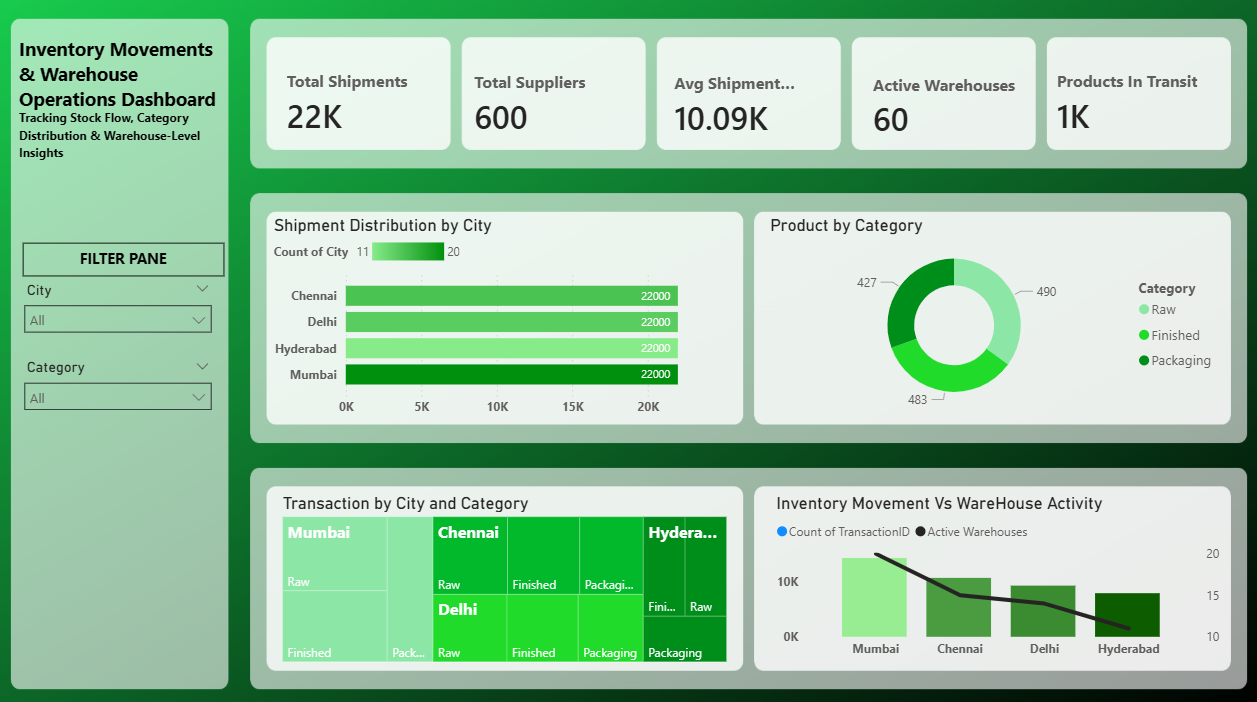

What the dashboard file says about the page in this screenshot:
{"tool":"powerbi","page":{"name":"Page 2","canvas":[1280,720],"ordinal":1},"visuals":[{"type":"cardVisual","fields":{"Data":["Fact_Shipments.Total Shipments"]},"box":[268.7,51.5,209.8,114.1],"z":0},{"type":"cardVisual","fields":{"Data":["Dim_suppliers.Total Suppliers"]},"box":[456.4,52.8,209.8,114.1],"z":1000},{"type":"cardVisual","fields":{"Data":["Fact_Supplyorders.Avg shipment value"]},"box":[656.4,54,209.8,114.1],"z":2000},{"type":"cardVisual","fields":{"Data":["Dim_Warehouses.Active WareHouses"]},"box":[855.2,55.2,209.8,114.1],"z":3000},{"type":"cardVisual","fields":{"Data":["Fact_InventoryTransactions.ProductsINTransit"]},"box":[1039.3,51.5,209.8,114.1],"z":4000},{"type":"clusteredBarChart","title":"Shipment Distribution by City","fields":{"Category":["Dim_Warehouses.City"],"Y":["CountNonNull(Fact_Shipments.ShipmentID)"]},"box":[279.8,220.9,462.6,209.8],"z":5000},{"type":"donutChart","title":"Product by Category","fields":{"Y":["CountNonNull(Dim_SupplyProducts.ProductID)"],"Category":["Dim_SupplyProducts.Category"]},"box":[776.7,220.9,460.1,201.2],"z":6000},{"type":"treemap","title":"Transaction by City and Category","fields":{"Group":["Dim_Warehouses.City"],"Values":["CountNonNull(Fact_InventoryTransactions.TransactionID)"],"Details":["Dim_SupplyProducts.Category"]},"box":[288.3,498.2,454,174.2],"z":7000},{"type":"lineStackedColumnComboChart","title":"Inventory Movement Vs WareHouse Activity","fields":{"Category":["Dim_Warehouses.City"],"Y":["CountNonNull(Fact_InventoryTransactions.TransactionID)"],"Y2":["Dim_Warehouses.Active WareHouses"]},"box":[782.8,498.2,454,174.2],"z":8000},{"type":"textbox","box":[25,37.5,220,92.5],"z":8001},{"type":"textbox","box":[25,108.8,220,92.5],"z":8002},{"type":"slicer","fields":{"Values":["Dim_Warehouses.City"]},"box":[25,282.5,207.5,87.5],"z":8003},{"type":"slicer","fields":{"Values":["Dim_SupplyProducts.Category"]},"box":[25,360,207.5,87.5],"z":8004},{"type":"textbox","box":[33.8,248.8,201.2,33.8],"z":8005}]}

Visuals, with their boxes in screenshot pixels (x1, y1, x2, y2), scaled from the page's 1280x720 canvas onto the 1257x702 screenshot:
cardVisual - Fact_Shipments.Total Shipments: bbox(264, 50, 470, 161)
cardVisual - Dim_suppliers.Total Suppliers: bbox(448, 51, 654, 163)
cardVisual - Fact_Supplyorders.Avg shipment value: bbox(645, 53, 851, 164)
cardVisual - Dim_Warehouses.Active WareHouses: bbox(840, 54, 1046, 165)
cardVisual - Fact_InventoryTransactions.ProductsINTransit: bbox(1021, 50, 1227, 161)
"Shipment Distribution by City" clusteredBarChart: bbox(275, 215, 729, 420)
"Product by Category" donutChart: bbox(763, 215, 1215, 412)
"Transaction by City and Category" treemap: bbox(283, 486, 729, 656)
"Inventory Movement Vs WareHouse Activity" lineStackedColumnComboChart: bbox(769, 486, 1215, 656)
textbox: bbox(25, 37, 241, 127)
textbox: bbox(25, 106, 241, 196)
slicer - Dim_Warehouses.City: bbox(25, 275, 228, 361)
slicer - Dim_SupplyProducts.Category: bbox(25, 351, 228, 436)
textbox: bbox(33, 243, 231, 276)
